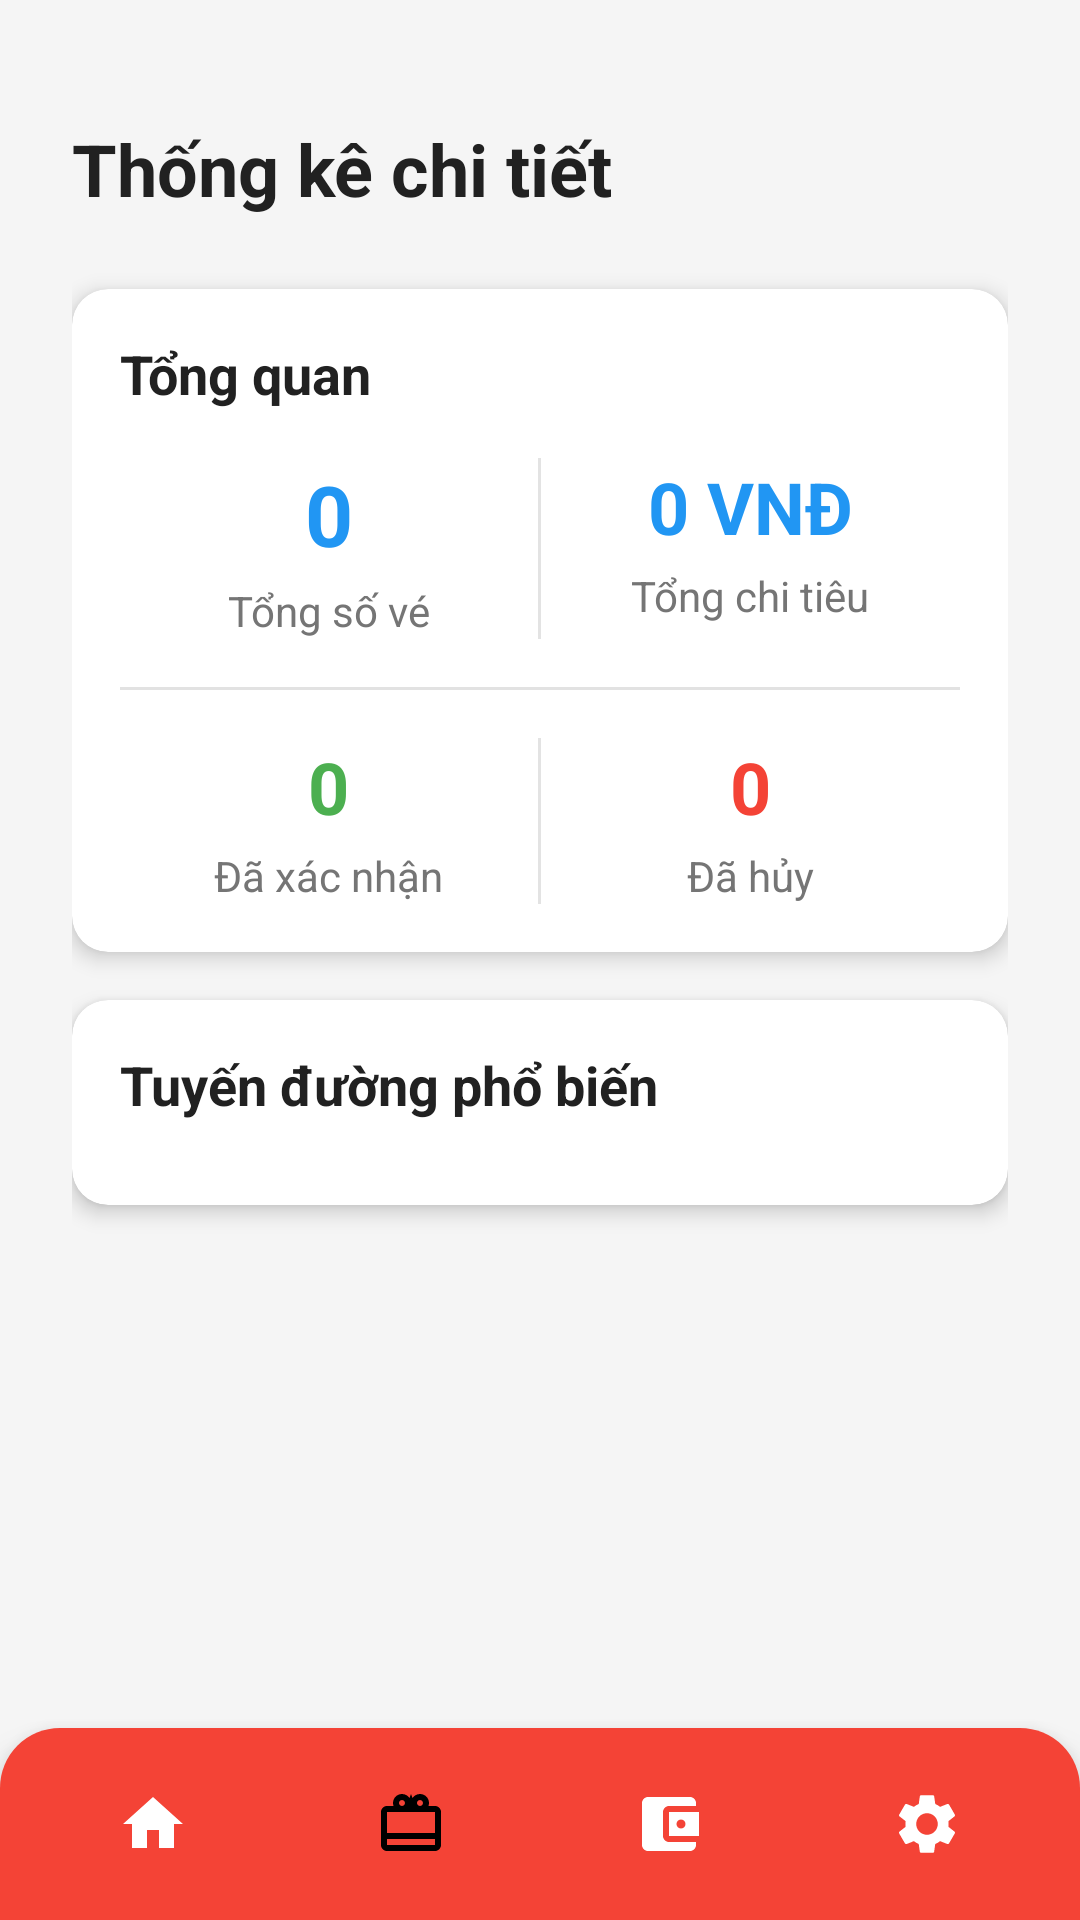

Icon click points for this 1080 × 1920 phone screenshot, format (x,y):
Home: (153,1822)
Settings: (927,1824)
Wallet: (670,1824)
